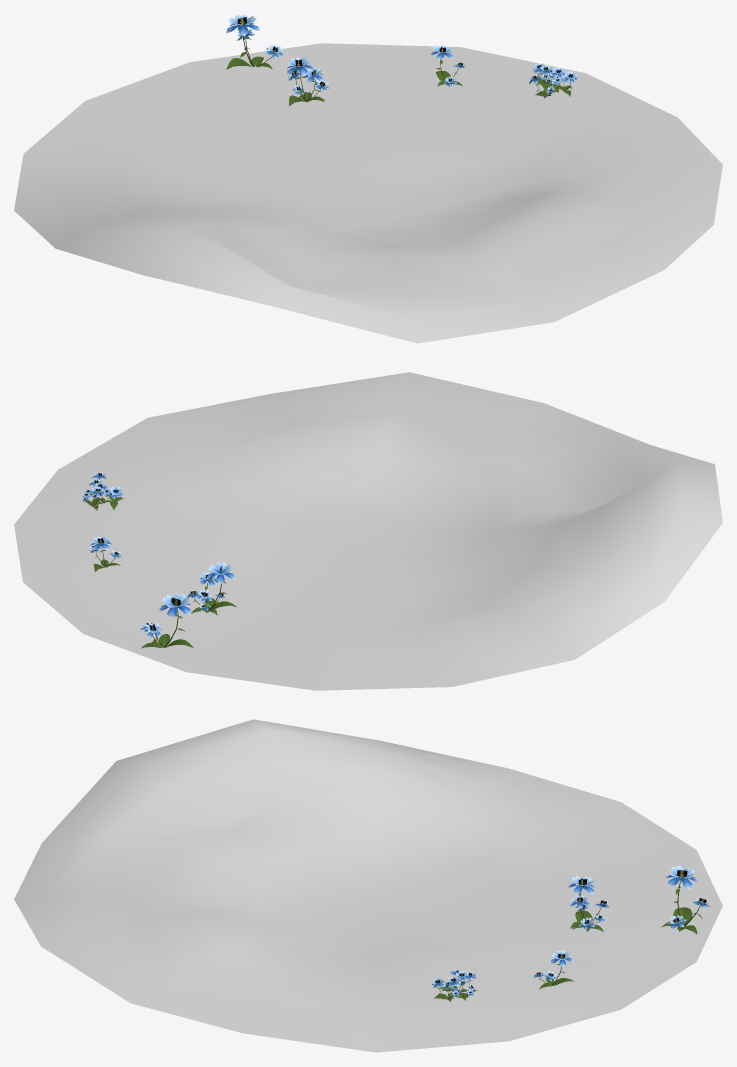
The model's file is world_plants_center_pit_v01.fbx.
The picture shows the model from 3 angles, top to bottom: view 1: azimuth 30°, elevation 25°; view 2: azimuth 150°, elevation 25°; view 3: azimuth 270°, elevation 25°; orthographic projection. The views are drawn at different scales.
Visible parts, largest first — view 1: center_pit, blue_flower, blue_flower.005, blue_flower.006; view 2: center_pit, blue_flower, blue_flower.005, blue_flower.006; view 3: center_pit, blue_flower, blue_flower.005, blue_flower.006.
Part boxes in pixels (box(x1,y1,x2,y2)): center_pit: box(14, 43, 722, 343); blue_flower: box(226, 14, 284, 69); blue_flower.005: box(287, 57, 329, 106); blue_flower.006: box(430, 45, 465, 86); center_pit: box(14, 372, 722, 690); blue_flower: box(140, 593, 193, 648); blue_flower.005: box(186, 562, 236, 613); blue_flower.006: box(89, 536, 121, 571); center_pit: box(14, 719, 722, 1052); blue_flower: box(661, 866, 710, 933); blue_flower.005: box(567, 876, 609, 931); blue_flower.006: box(533, 950, 574, 989).
Size of what is drawn, in the model's own units: 1104 by 114 by 1125.
Materials: 2 (2 with a texture image).
